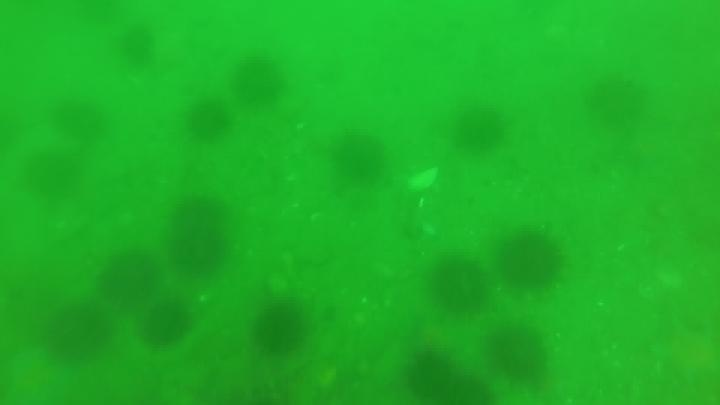echinus: (497, 228, 566, 292), (43, 303, 112, 363), (486, 324, 551, 384), (428, 256, 490, 316), (98, 251, 160, 307), (586, 74, 648, 129), (250, 301, 308, 357), (167, 228, 225, 284), (403, 348, 462, 403), (331, 131, 388, 185), (231, 55, 287, 108), (451, 104, 507, 154), (23, 151, 80, 200), (139, 299, 193, 348), (51, 97, 108, 143), (169, 193, 227, 232), (184, 98, 232, 143), (117, 23, 158, 68)
starfish: (649, 317, 719, 386), (1, 345, 80, 405)
